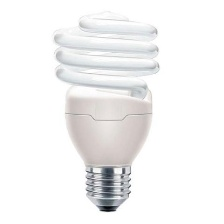light_bulb: (50, 8, 165, 214)
